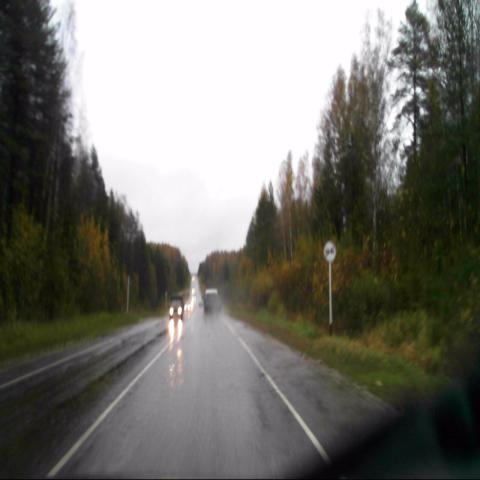3_21: (324, 240, 336, 260)
